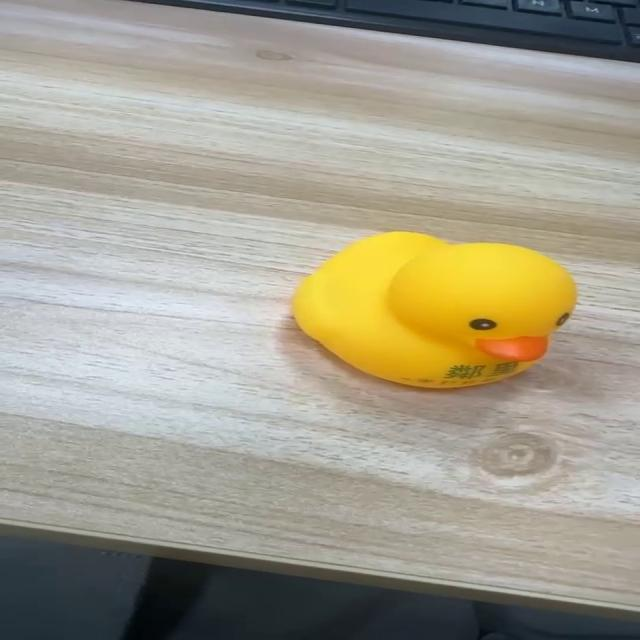yellow_duck: (288, 230, 578, 390)
